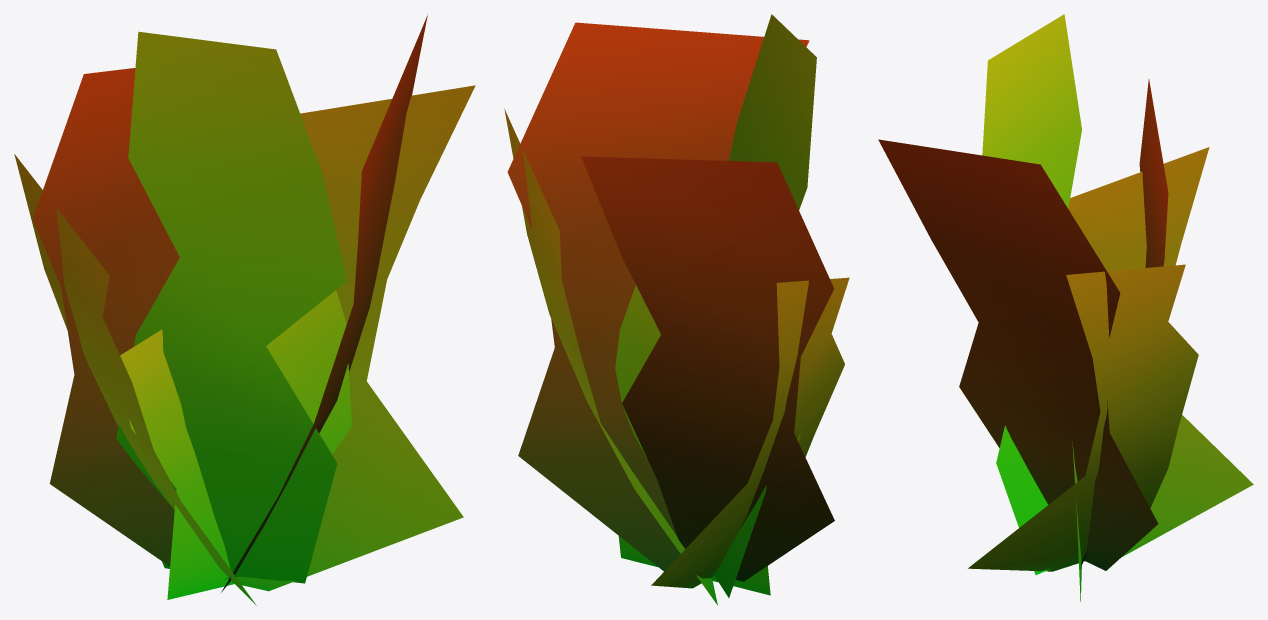
Rendered from Var8Hi59.fbx.
3 views of the same model, side by side, from view 1: azimuth 30°, elevation 25°; view 2: azimuth 150°, elevation 25°; view 3: azimuth 270°, elevation 25° (orthographic). The views are drawn at different scales.
Parts seen in each view (by area): view 1: bend1; view 2: bend1; view 3: bend1.
Part boxes in pixels (left/top/right/bottom): bend1: left=14, top=14, right=475, bottom=605; bend1: left=504, top=14, right=849, bottom=605; bend1: left=878, top=14, right=1253, bottom=601.
Size of the model in its own units: 1.26 by 1.77 by 1.19.
